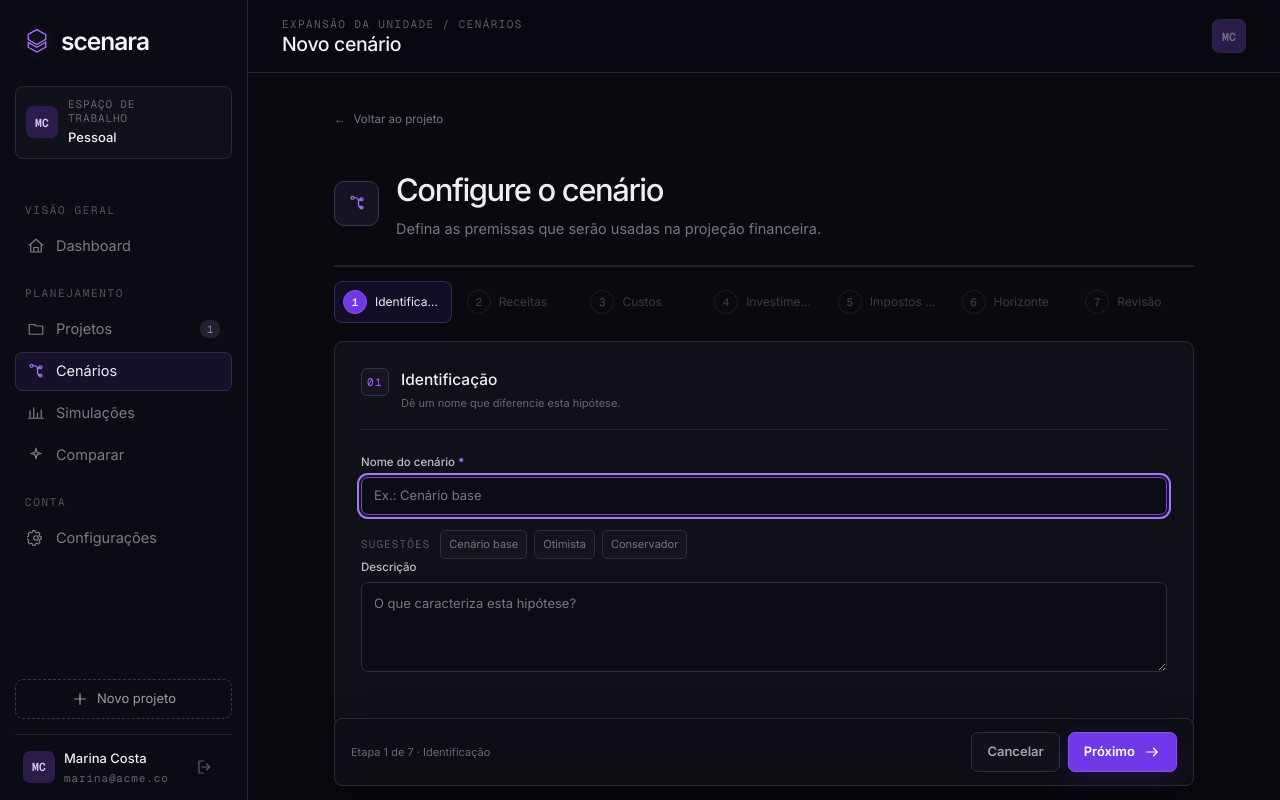
Test: app smoke test (API simulada) › assistente de cenário: valida cada etapa antes de avançar
expect the text "Etapa 1 de 7 · Identificação" is shown: met, box [351,744,490,760]
expect the button "7 Revisão" is disabled: met, box [1076,281,1194,323]
Click the button "Próximo".
click(1122, 752)  # box [1068,732,1177,772]
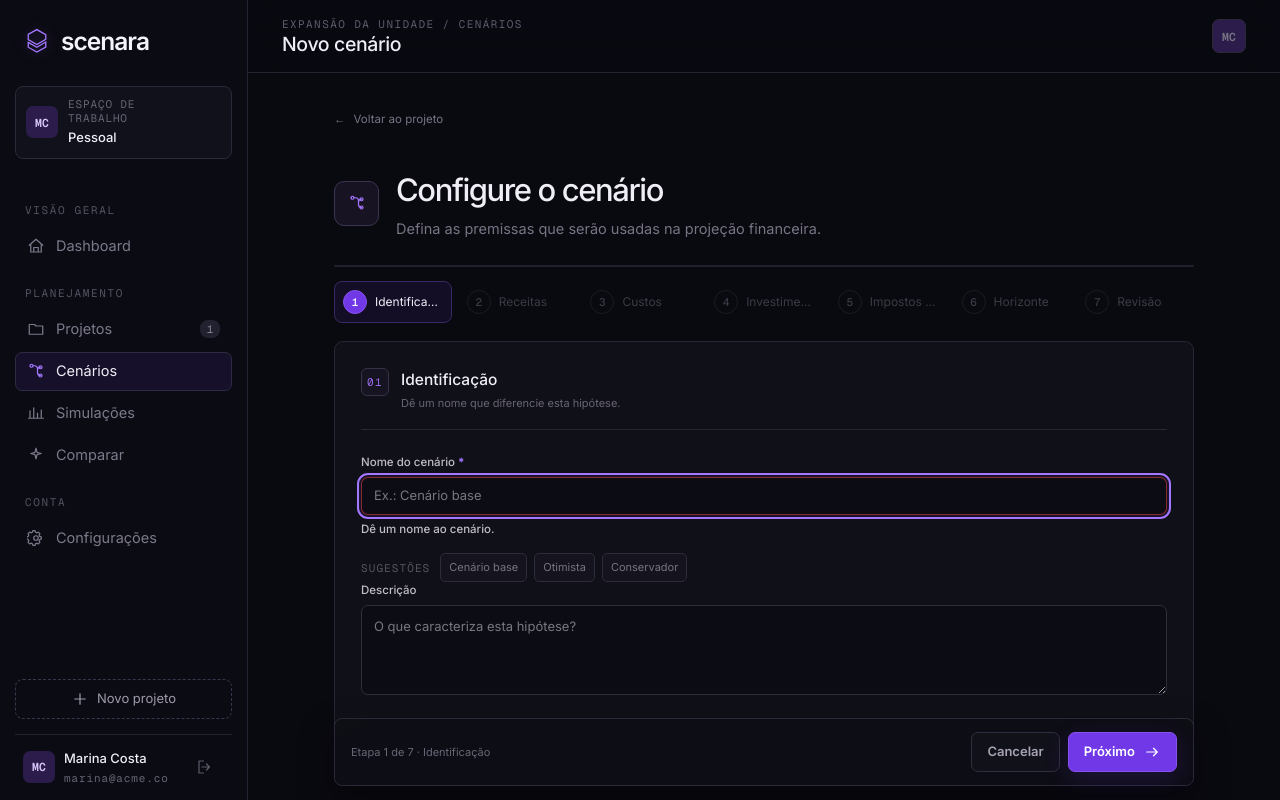
expect the text "Etapa 1 de 7 · Identificação" is shown: met, box [351,744,490,760]
expect the text "Dê um nome ao cenário." is shown: met, box [361,522,494,536]
Type "Conservador" into the field with placeholder "Ex.: Cenário base".
click(764, 496); type("Conservador")  # box [361,477,1167,515]
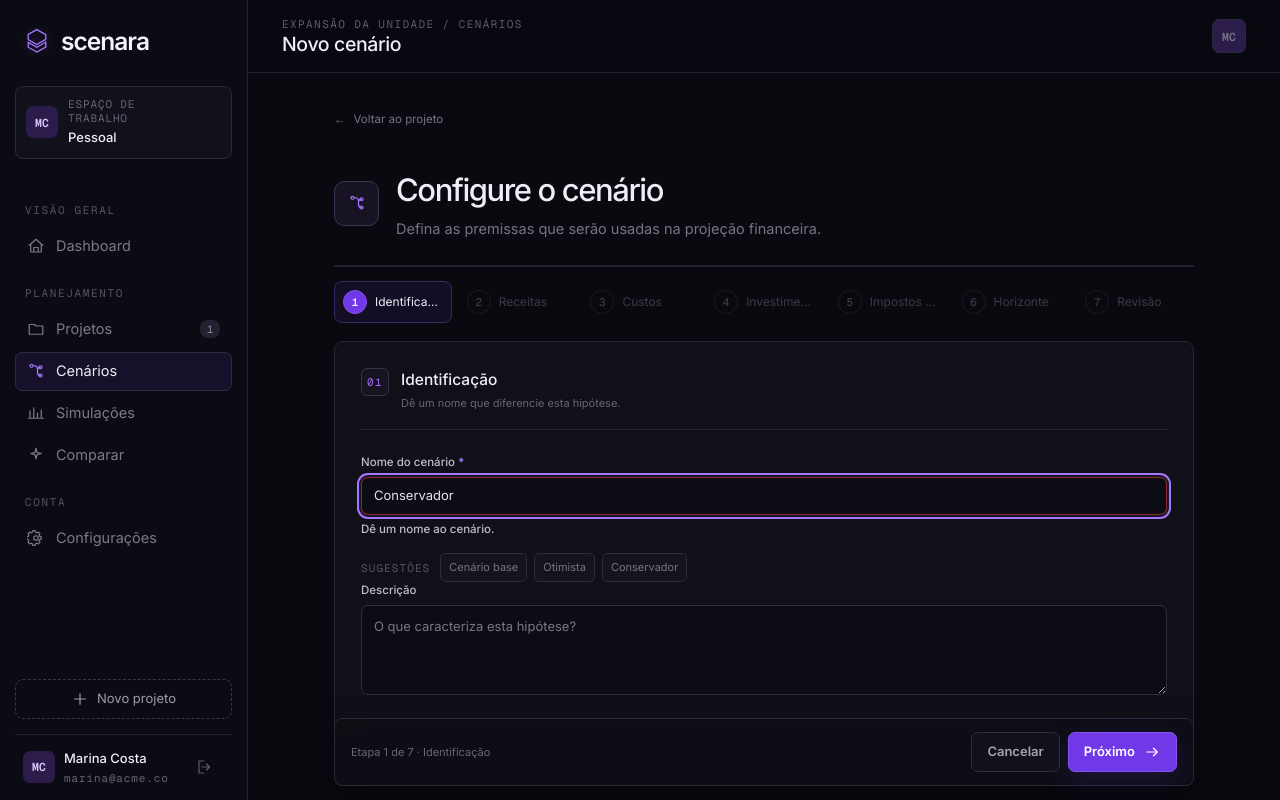
Click the button "Próximo".
click(1122, 752)  # box [1068,732,1177,772]
(page scrolled)
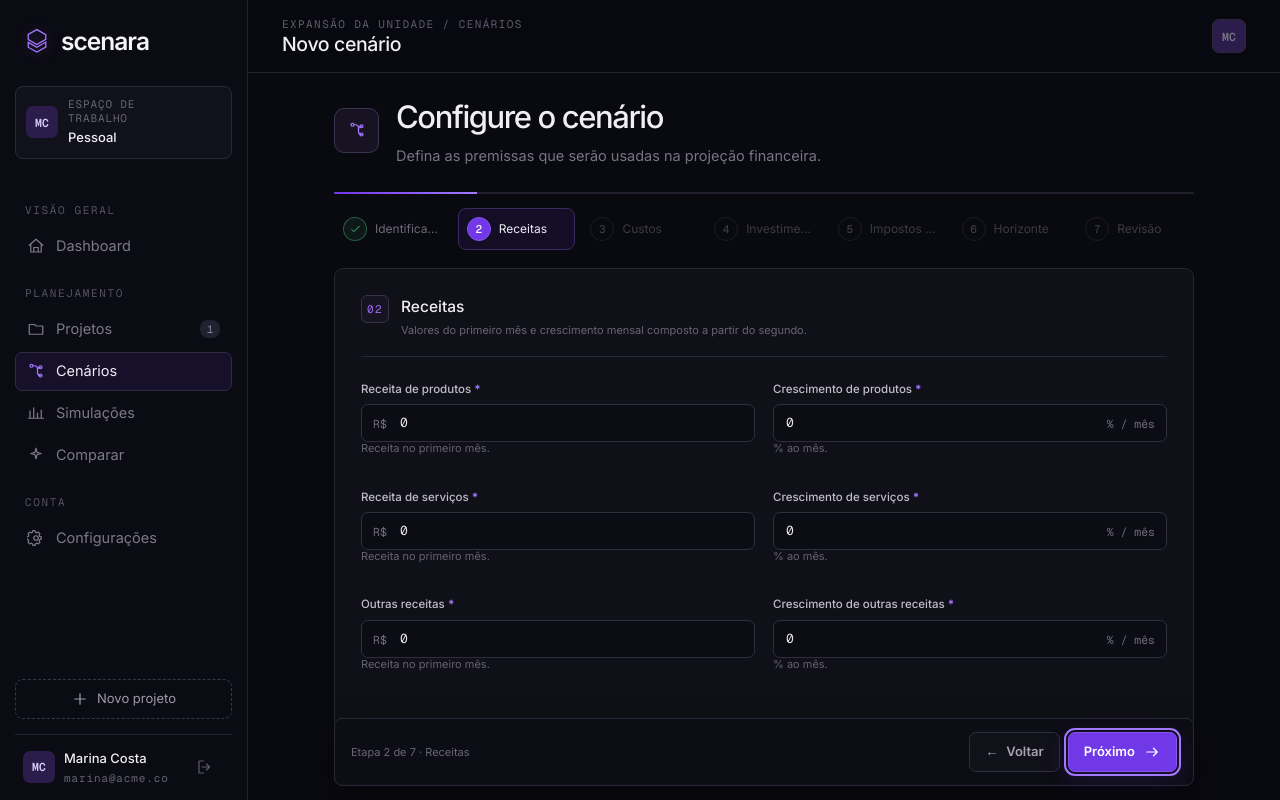
expect the text "Etapa 2 de 7 · Receitas" is shown: met, box [351,744,470,760]
